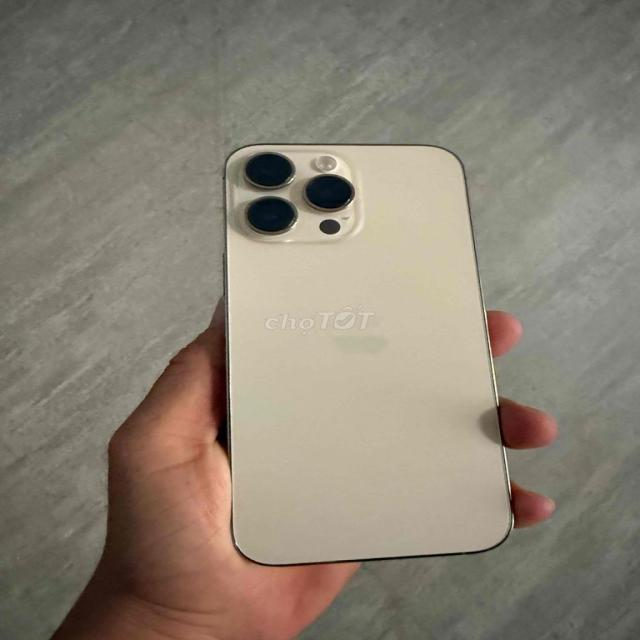gen_14: (216, 135, 532, 583)
